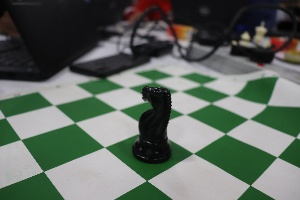black_horse: (126, 72, 177, 169)
